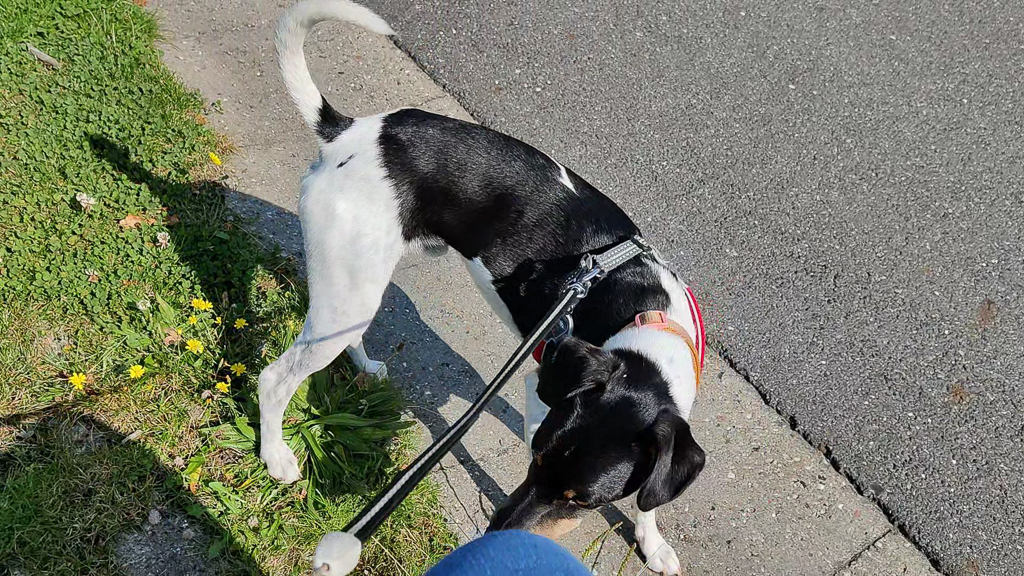Dog: (239, 0, 728, 576)
Humanoid: (396, 520, 607, 576)
